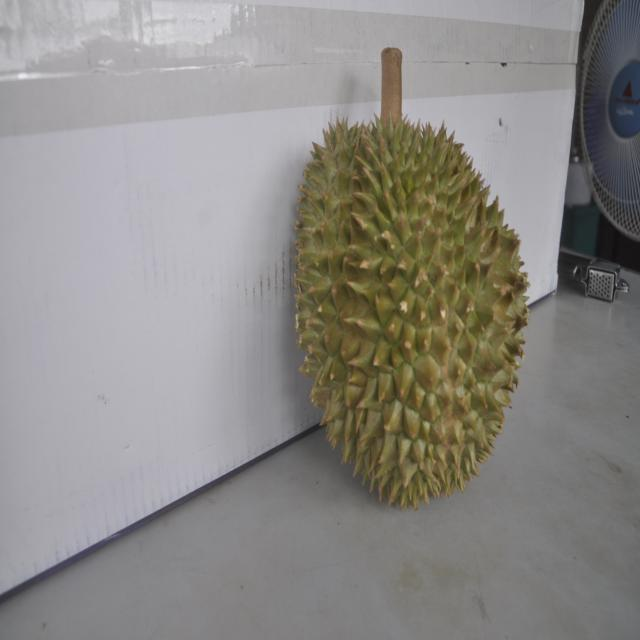mature: (296, 98, 527, 508)
